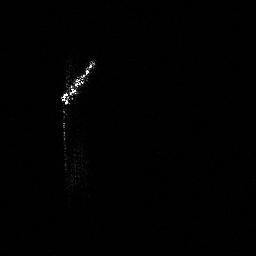ship: (55, 53, 100, 110)
